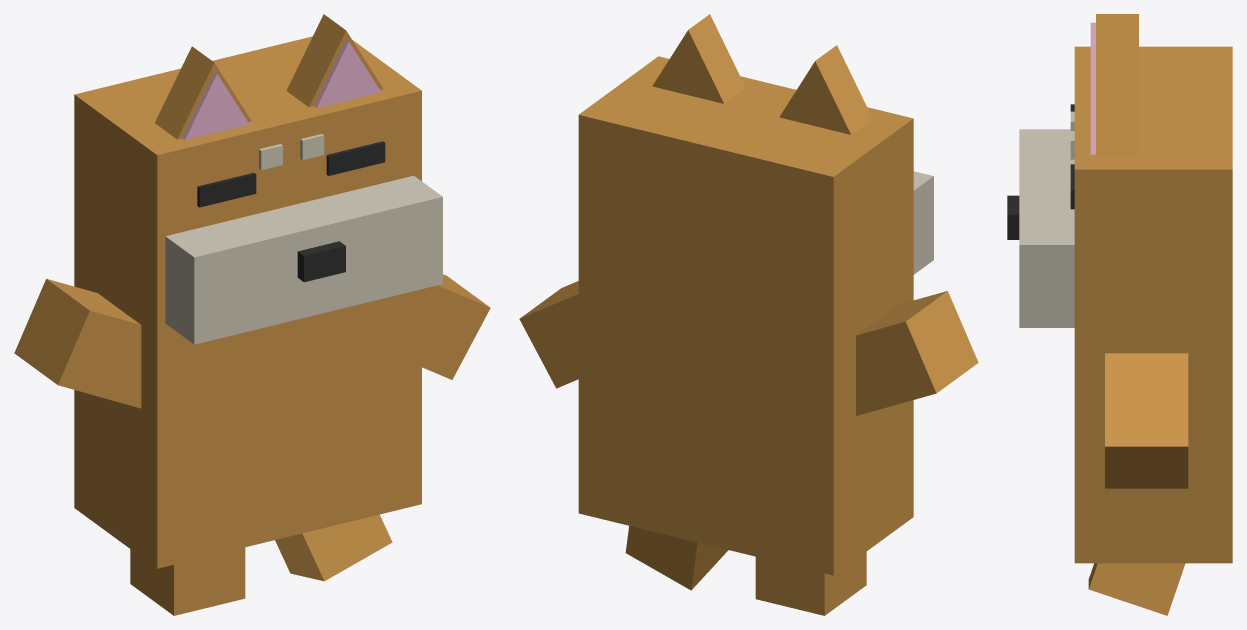
Rendered from dog.glb.
3 renders of one model, left to right at view 1: azimuth 30°, elevation 25°; view 2: azimuth 150°, elevation 25°; view 3: azimuth 270°, elevation 25°, orthographic. The views are drawn at different scales.
Parts seen in each view (by area): view 1: Cube, Cube.001, Cube.009, Cube.007, Cube.010, Cube.008, Cylinder, Cylinder.002, Cylinder.001, Cylinder.003, Cube.002, Cube.004 (+1 smaller); view 2: Cube, Cube.009, Cylinder, Cylinder.002, Cube.007, Cube.010, Cube.008, Cube.001; view 3: Cube, Cube.010, Cube.001, Cube.008, Cylinder.002, Cylinder, Cube.002, Cylinder.003, Cylinder.001.
Boxes of the visible parts, x1,y1,x2,y2 form: Cube: (74,36,421,568); Cube.001: (165,175,442,344); Cube.009: (14,279,141,408); Cube.007: (130,547,245,615); Cube.010: (422,274,490,379); Cube.008: (275,514,392,581); Cylinder: (155,46,251,139); Cylinder.002: (286,14,383,107); Cylinder.001: (182,72,249,139); Cylinder.003: (314,39,380,107); Cube.002: (297,241,345,282); Cube.004: (326,141,385,175); Cube: (578,56,913,575); Cube.009: (856,291,978,415); Cylinder: (779,45,872,134); Cylinder.002: (652,14,745,103); Cube.007: (755,552,866,615); Cube.010: (519,281,578,388); Cube.008: (625,526,728,590); Cube.001: (913,171,933,274); Cube: (1074,46,1232,563); Cube.010: (1105,353,1188,488); Cube.001: (1019,129,1074,327); Cube.008: (1088,563,1185,615); Cylinder.002: (1096,75,1138,156); Cylinder: (1096,14,1138,75); Cube.002: (1007,195,1019,239); Cylinder.003: (1090,83,1095,154); Cylinder.001: (1090,22,1095,83).
Size of the model in its own units: 3.48 by 4.35 by 1.65.
